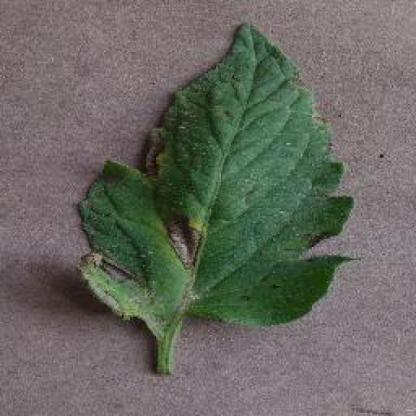Tomato_Blight: (79, 23, 353, 328)
